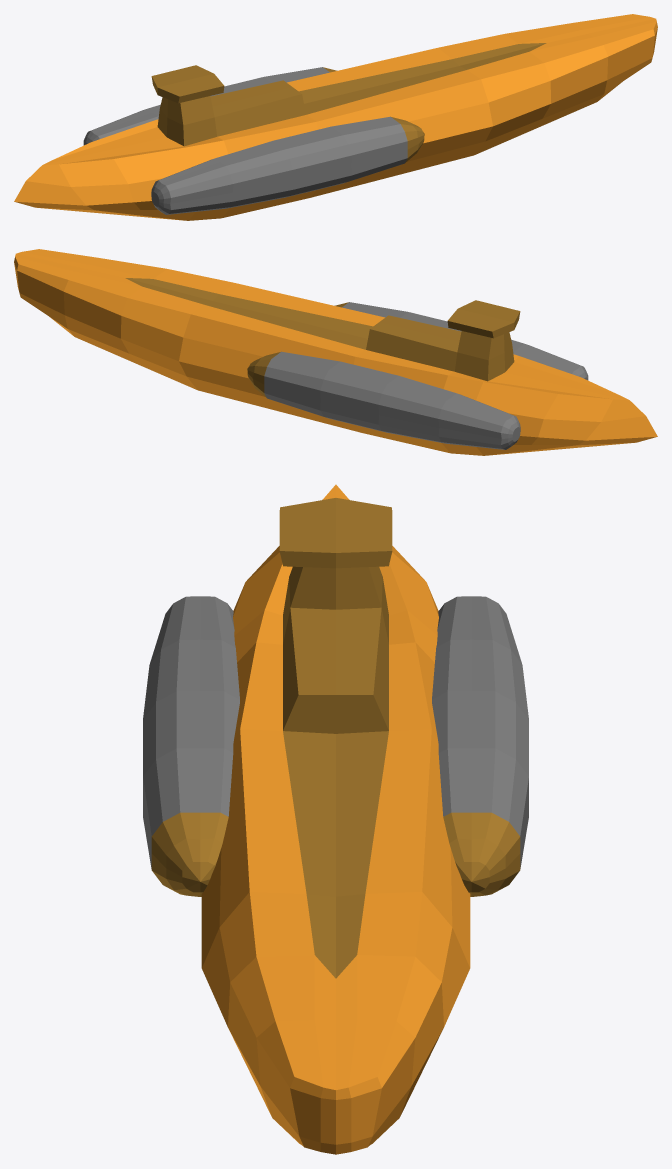
Rendered from Ship_U_99_Submarine.obj.
The picture shows the model from 3 angles, top to bottom: view 1: azimuth 30°, elevation 25°; view 2: azimuth 150°, elevation 25°; view 3: azimuth 270°, elevation 25°; orthographic projection. The views are drawn at different scales.
Visible parts, largest first — view 1: U-99-Test; view 2: U-99-Test; view 3: U-99-Test.
Part boxes in pixels (x1,y1,x2,y2): U-99-Test: (14, 14, 657, 220); U-99-Test: (14, 249, 657, 455); U-99-Test: (143, 484, 528, 1154).
Size of the model in its own units: 5.69 by 1.17 by 1.48.
1 material, 1 textured.
